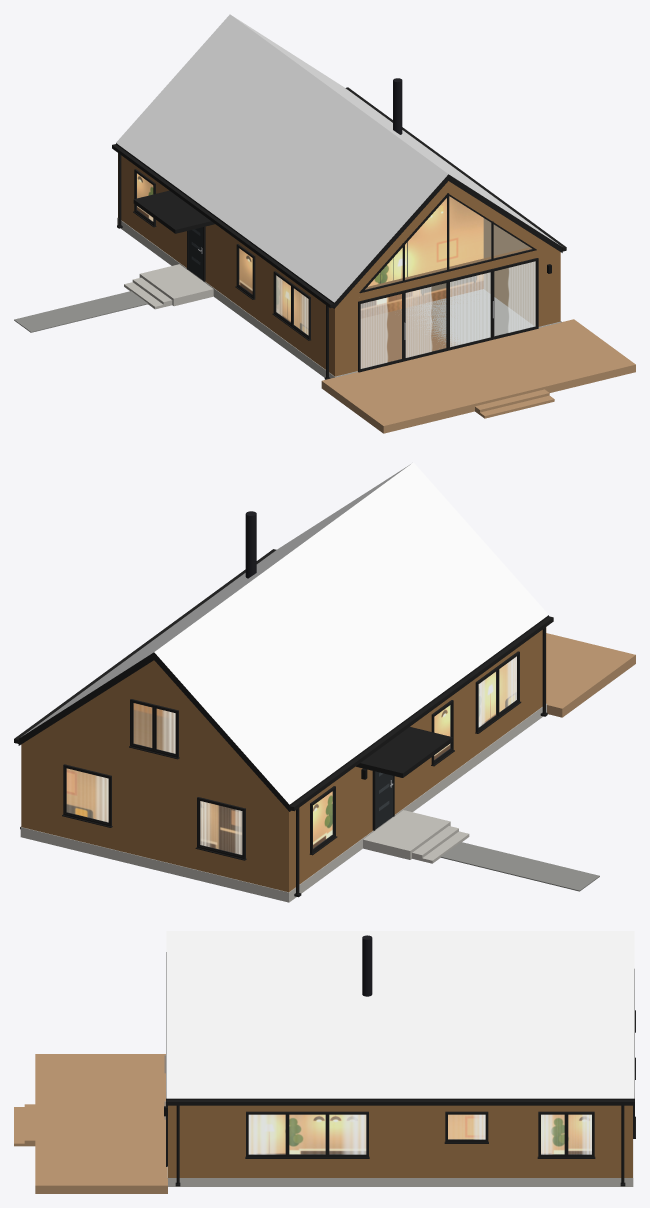
Rendered from sade118_c0_p0_m0.glb.
3 renders of one model, top to bottom at view 1: azimuth 30°, elevation 25°; view 2: azimuth 150°, elevation 25°; view 3: azimuth 270°, elevation 25°, orthographic. The views are drawn at different scales.
Parts seen in each view (by area): view 1: roof, deck, glass, wall, room, veil, plinth, fascia, frame, soffit, interior_side, paving (+3 smaller); view 2: roof, wall, fascia, plinth, glass, room, frame, deck, paving, sheer, door, metal; view 3: roof, wall, deck, glass, room, fascia, plinth, frame, sheer, metal.
Part boxes in pixels (x1,y1,x2,y2): roof: (116, 14, 560, 302); deck: (321, 319, 635, 433); glass: (137, 174, 535, 368); wall: (118, 153, 560, 376); room: (137, 173, 483, 333); veil: (361, 261, 535, 368); plinth: (117, 217, 561, 378); fascia: (112, 87, 566, 379); frame: (133, 169, 538, 372); soffit: (361, 299, 457, 368); interior_side: (483, 218, 535, 325); paving: (14, 291, 147, 332); roof: (21, 462, 548, 804); wall: (21, 627, 546, 892); fascia: (14, 549, 553, 897); plinth: (20, 703, 547, 902); glass: (67, 657, 516, 854); room: (66, 659, 515, 854); frame: (62, 651, 521, 860); deck: (546, 633, 635, 717); paving: (440, 842, 599, 891); sheer: (95, 656, 516, 854); door: (375, 771, 393, 829); metal: (245, 511, 256, 578); roof: (166, 931, 634, 1098); wall: (168, 1105, 632, 1177); deck: (14, 1054, 167, 1193); glass: (249, 1115, 591, 1153); room: (250, 1114, 591, 1154); fascia: (166, 1098, 634, 1186); plinth: (167, 1139, 633, 1186); frame: (166, 952, 635, 1166); sheer: (248, 1114, 591, 1154); metal: (362, 935, 372, 996).
Size of the model in its own units: 15.4 by 7.07 by 18.74.
18 materials, 7 textured.
